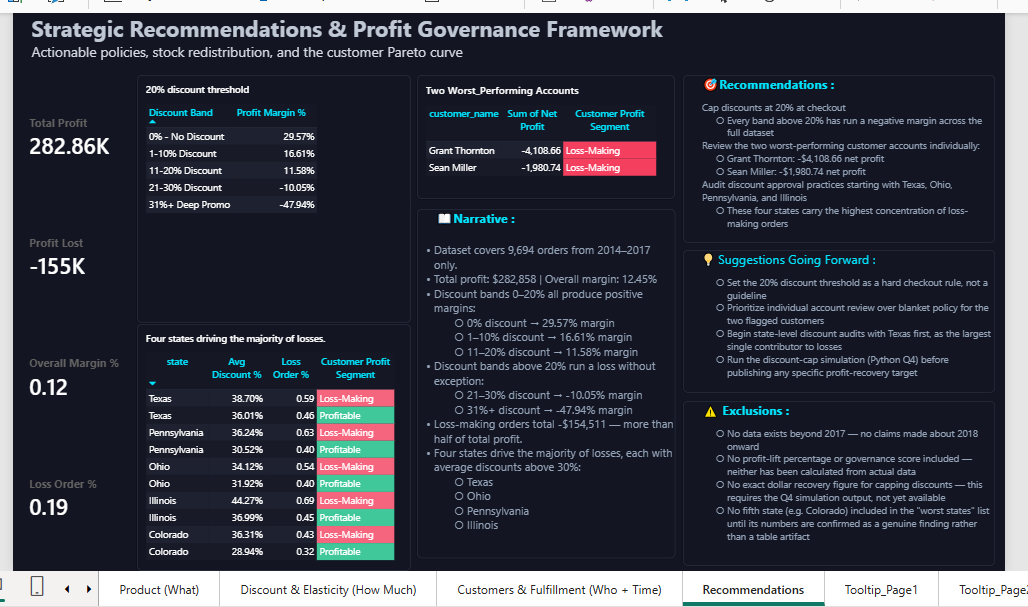

This screenshot's page, from the dashboard's own definition file:
{"tool":"powerbi","page":{"name":"Recommendations","canvas":[1920,1080],"ordinal":5},"visuals":[{"type":"textbox","box":[0,0,1920,110],"z":0},{"type":"cardVisual","fields":{"Data":["superstore.Total Profit","superstore.Profit Lost","superstore.Overall Margin %","superstore.Loss Order %"]},"box":[15,125,220,930],"z":1},{"type":"tableEx","title":"20% discount threshold","fields":{"Values":["superstore.Discount Band","superstore.Profit Margin %","superstore.Customer Profit Segment"]},"box":[240,120,530,480],"z":2},{"type":"tableEx","title":"Four states driving the majority of losses.","fields":{"Values":["superstore.state","superstore.Avg Discount %","superstore.Loss Order %","superstore.Customer Profit Segment"]},"box":[240,602.5,530,477.5],"z":3},{"type":"tableEx","title":"Two Worst_Performing Accounts","fields":{"Values":["Customer Evidence.customer_name","Sum(Customer Evidence.Net Profit)","superstore.Customer Profit Segment"]},"box":[781.9,120,499.4,240],"z":4},{"type":"textbox","box":[782.4,378.4,499.6,676.1],"z":5},{"type":"textbox","box":[1296.9,119.1,603.8,325.3],"z":6},{"type":"textbox","box":[1296.9,459.2,603.8,276.4],"z":7},{"type":"textbox","box":[1297,750,604,319],"z":8}]}

Visuals, with their boxes on the page's 1920x1080 design canvas (x1, y1, x2, y2). These are canvas units, not pixel positions in the 1028x607 screenshot, which may show the page scaled, cropped or inside an application window:
textbox: locate(0, 0, 1920, 110)
cardVisual - superstore.Total Profit x superstore.Profit Lost: locate(15, 125, 235, 1055)
"20% discount threshold" tableEx: locate(240, 120, 770, 600)
"Four states driving the majority of losses." tableEx: locate(240, 602, 770, 1080)
"Two Worst_Performing Accounts" tableEx: locate(782, 120, 1281, 360)
textbox: locate(782, 378, 1282, 1054)
textbox: locate(1297, 119, 1901, 444)
textbox: locate(1297, 459, 1901, 736)
textbox: locate(1297, 750, 1901, 1069)
